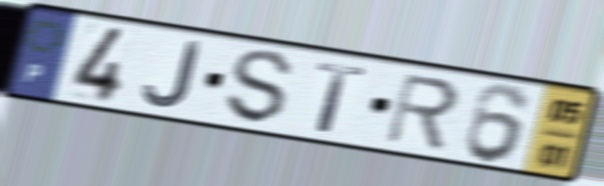4: (67, 23, 127, 106)
6: (462, 79, 532, 167)
J: (141, 39, 204, 111)
R: (382, 71, 463, 153)
S: (224, 47, 296, 127)
T: (313, 58, 371, 136)
